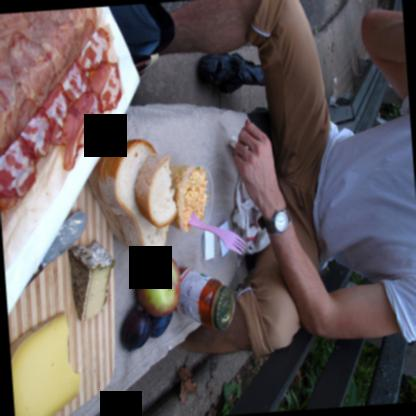backpack: (107, 3, 176, 75)
